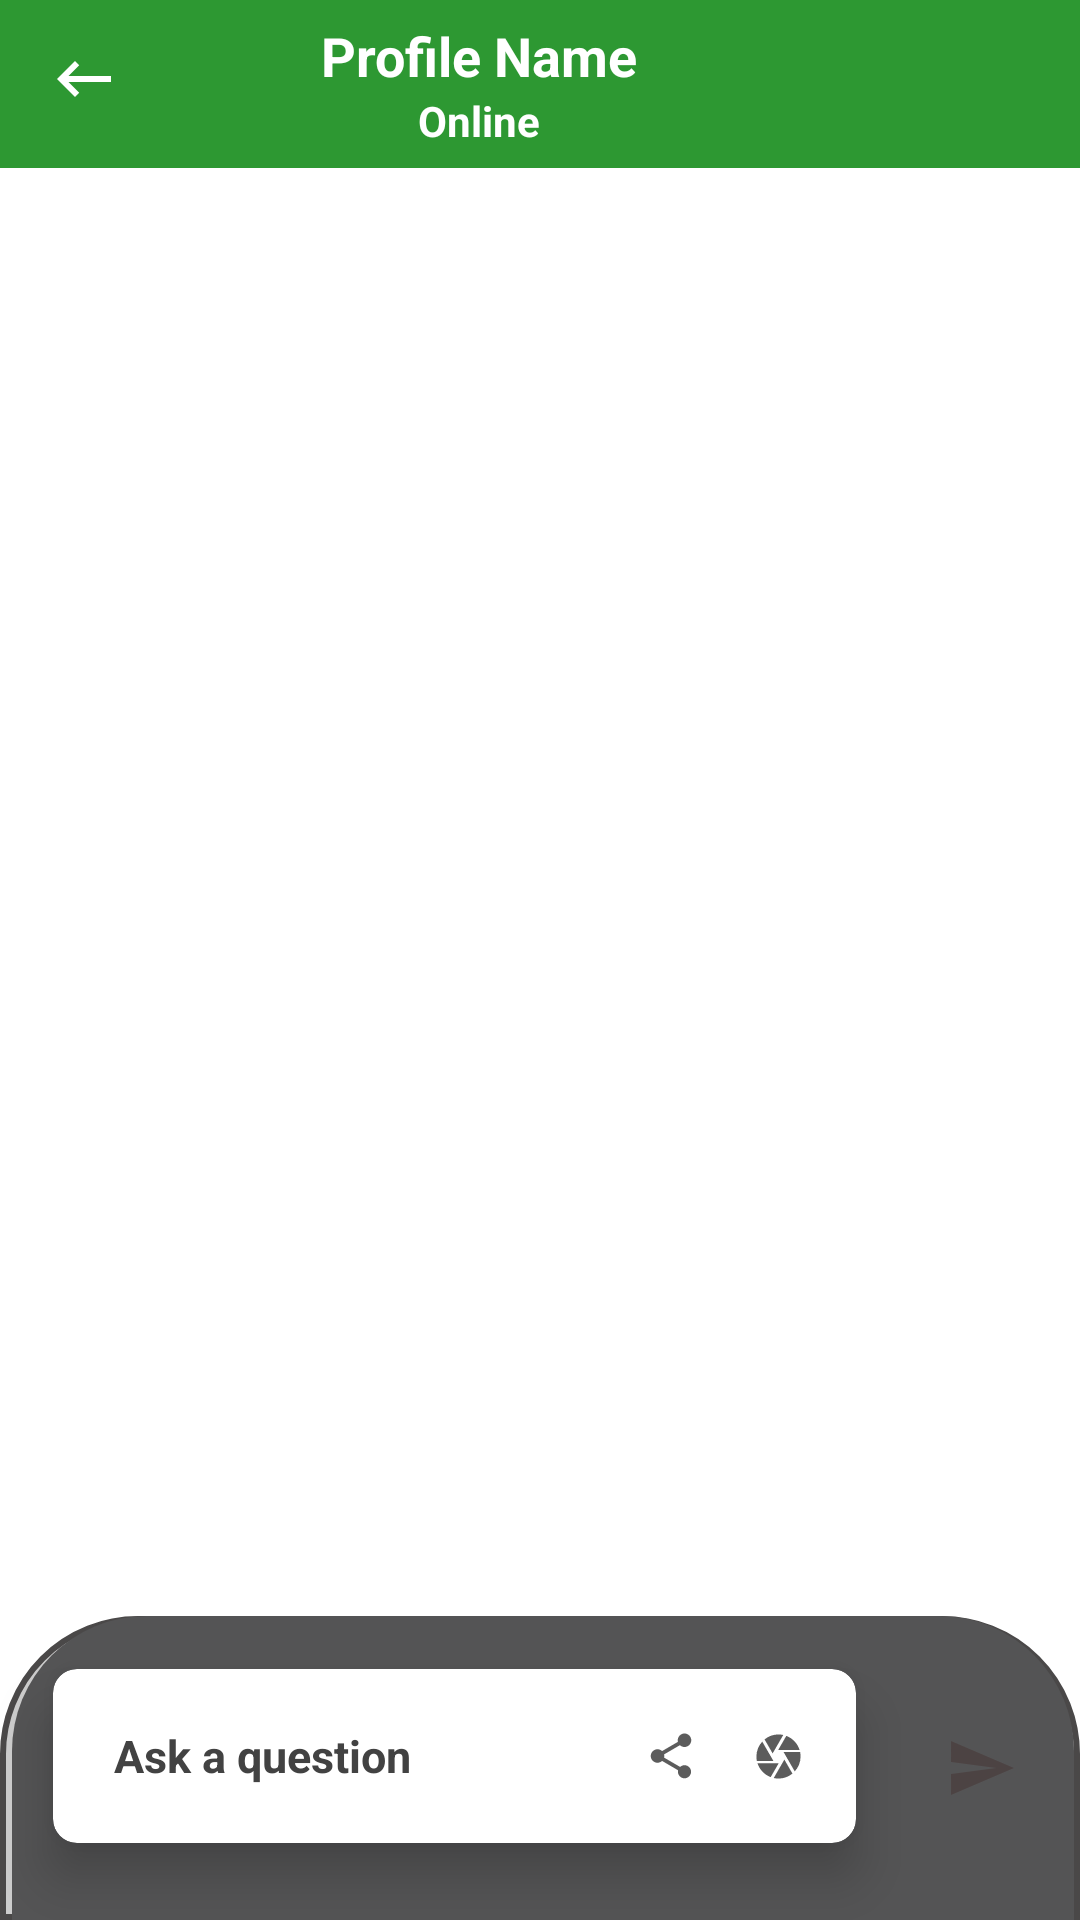

Where icons sit on this 1080*1920 app screen, as {"left": x1, "top": y1, "right": x2, "bottom": y2}:
back: {"left": 57, "top": 61, "right": 111, "bottom": 97}
cam: {"left": 756, "top": 1734, "right": 801, "bottom": 1779}
share: {"left": 650, "top": 1733, "right": 692, "bottom": 1779}
